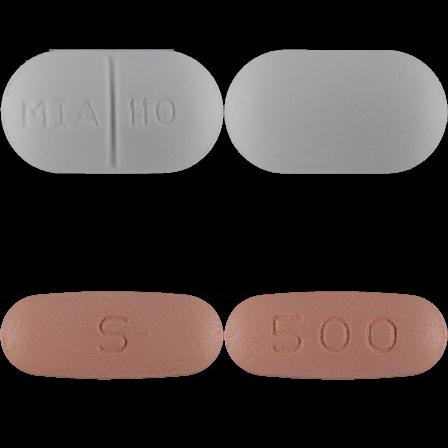46672-053: (0, 0, 224, 224)
